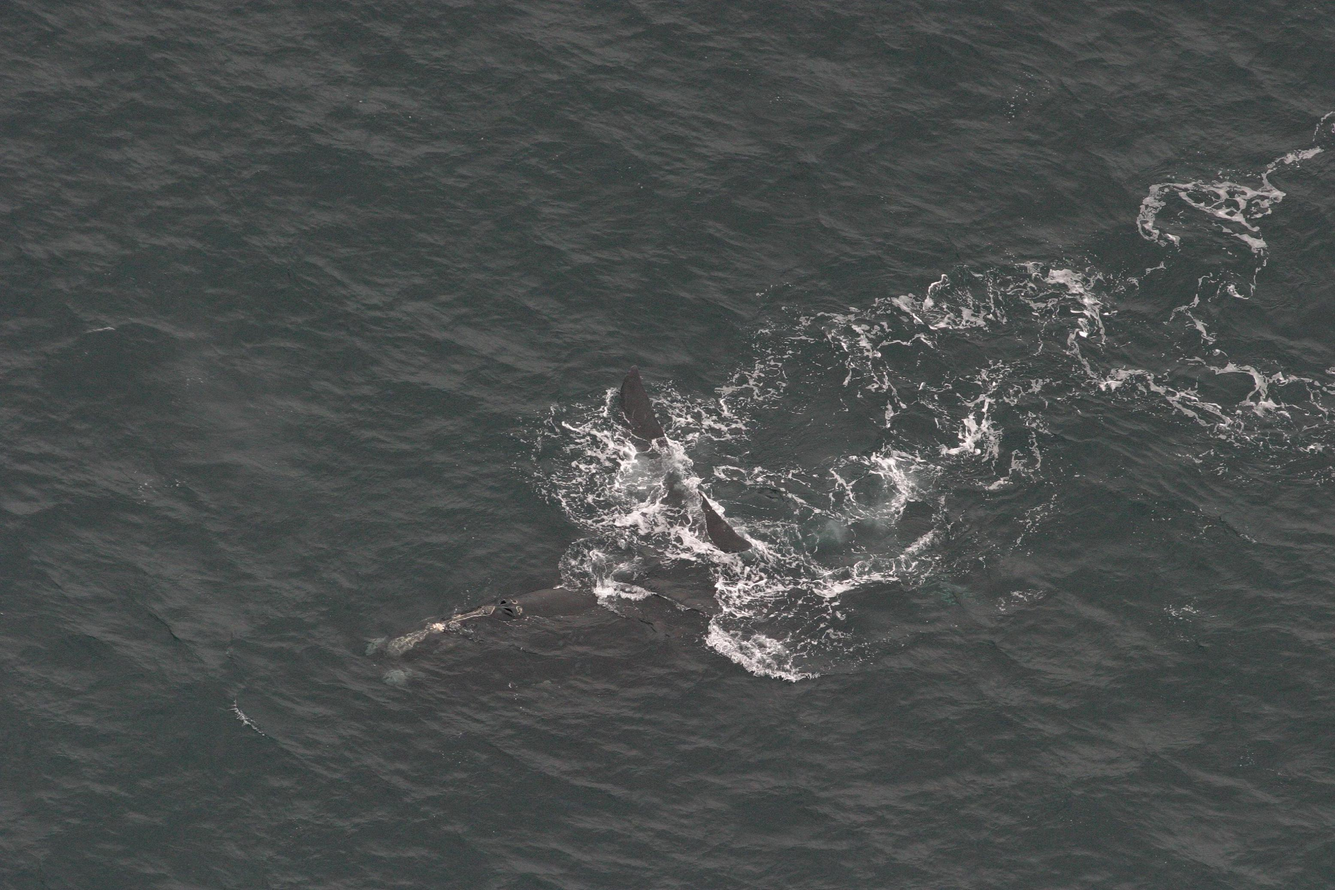whale: (354, 327, 773, 703)
